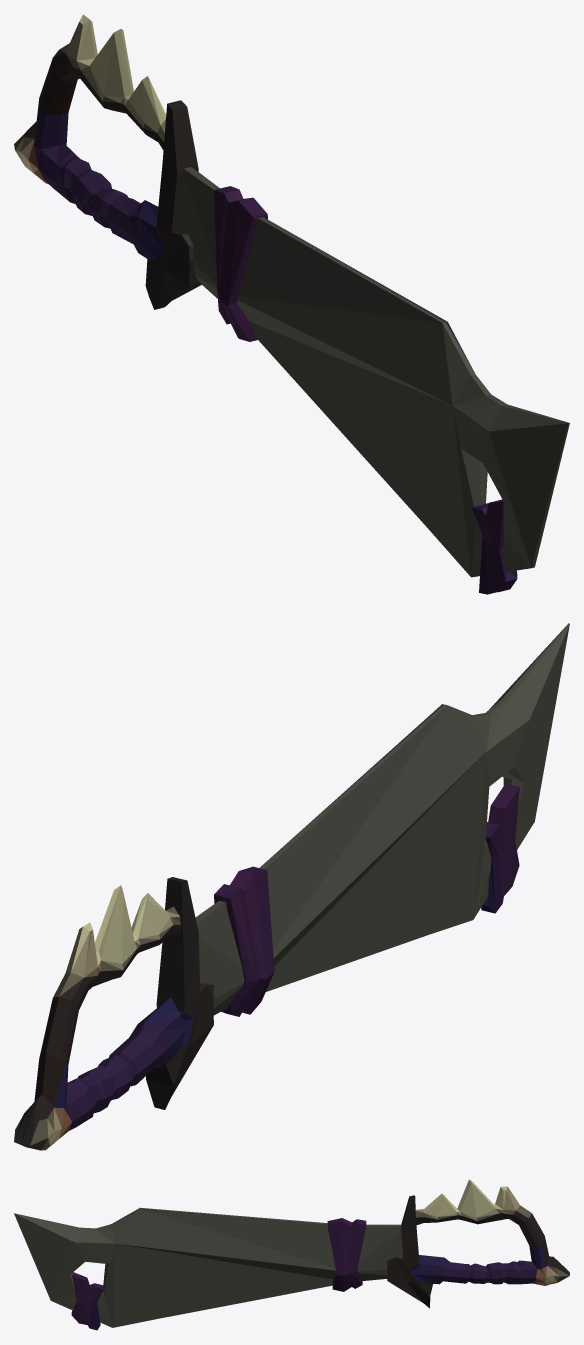
File: weapon_sword_blue.fbx
The picture shows the model from 3 angles, top to bottom: view 1: azimuth 30°, elevation 25°; view 2: azimuth 150°, elevation 25°; view 3: azimuth 270°, elevation 25°; orthographic projection. The views are drawn at different scales.
Visible parts, largest first — view 1: weapon_sword_blue; view 2: weapon_sword_blue; view 3: weapon_sword_blue.
Boxes of the visible parts, x1=… form: weapon_sword_blue: x1=14, y1=14, x2=569, y2=594; weapon_sword_blue: x1=14, y1=623, x2=569, y2=1150; weapon_sword_blue: x1=14, y1=1179, x2=569, y2=1330.
Bounding box in the file's own units: 0.1301 × 0.7834 × 2.64.
